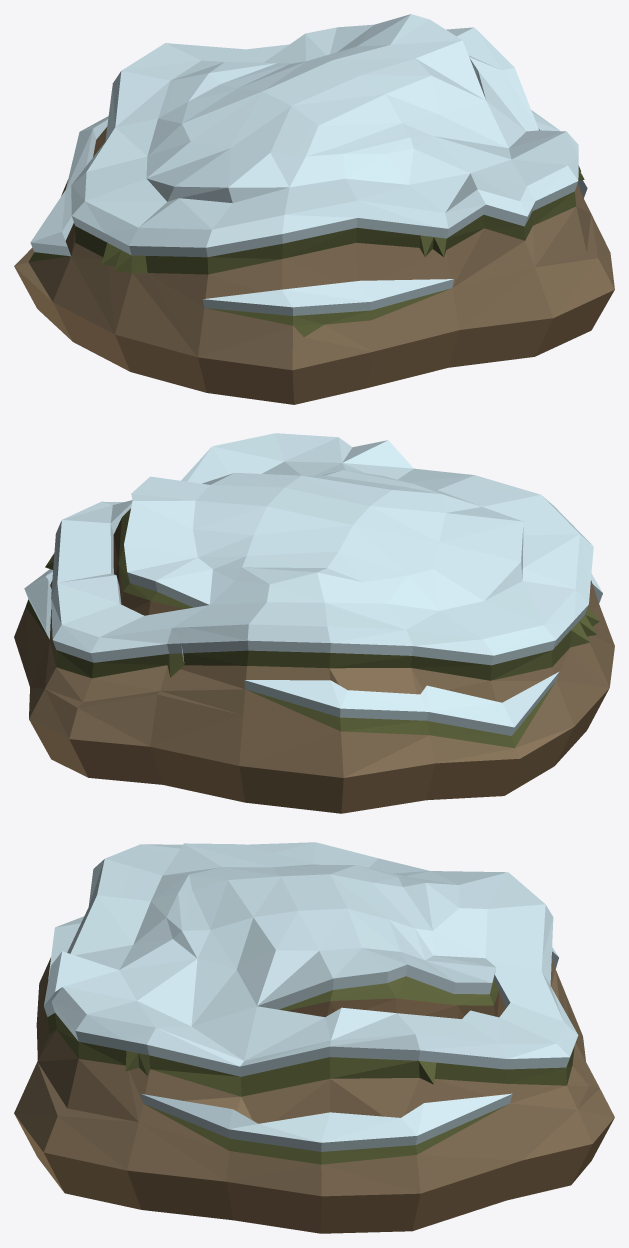
The model's file is SM_Env_DirtMound_01_Snow.gltf.
3 renders of one model, top to bottom at view 1: azimuth 30°, elevation 25°; view 2: azimuth 150°, elevation 25°; view 3: azimuth 270°, elevation 25°, orthographic. The views are drawn at different scales.
Visible parts, largest first — view 1: SM_Env_DirtMound_01_Snow; view 2: SM_Env_DirtMound_01_Snow; view 3: SM_Env_DirtMound_01_Snow.
Boxes of the visible parts, x1=… form: SM_Env_DirtMound_01_Snow: x1=14, y1=14, x2=614, y2=404; SM_Env_DirtMound_01_Snow: x1=14, y1=433, x2=614, y2=813; SM_Env_DirtMound_01_Snow: x1=14, y1=842, x2=614, y2=1233.
Size of the model in its own units: 7.86 by 2.97 by 7.38.
1 material, 1 textured.
